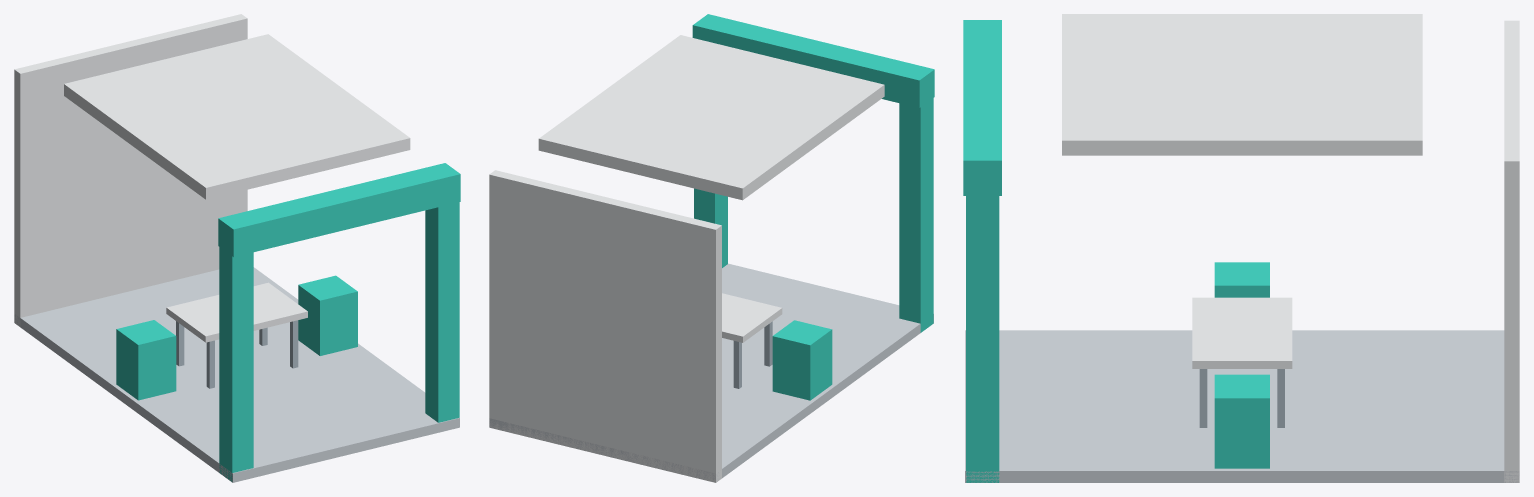
3 renders of one model, left to right at view 1: azimuth 30°, elevation 25°; view 2: azimuth 150°, elevation 25°; view 3: azimuth 270°, elevation 25°, orthographic. The views are drawn at different scales.
Visible parts, largest first — view 1: Exhibition Booth Concept; view 2: Exhibition Booth Concept; view 3: Exhibition Booth Concept.
Part boxes in pixels (<box>): Exhibition Booth Concept: <box>14,14,460,482</box>; Exhibition Booth Concept: <box>489,14,934,482</box>; Exhibition Booth Concept: <box>963,14,1519,482</box>.
Bounding box in the file's own units: 3 × 3.34 × 5.02.
